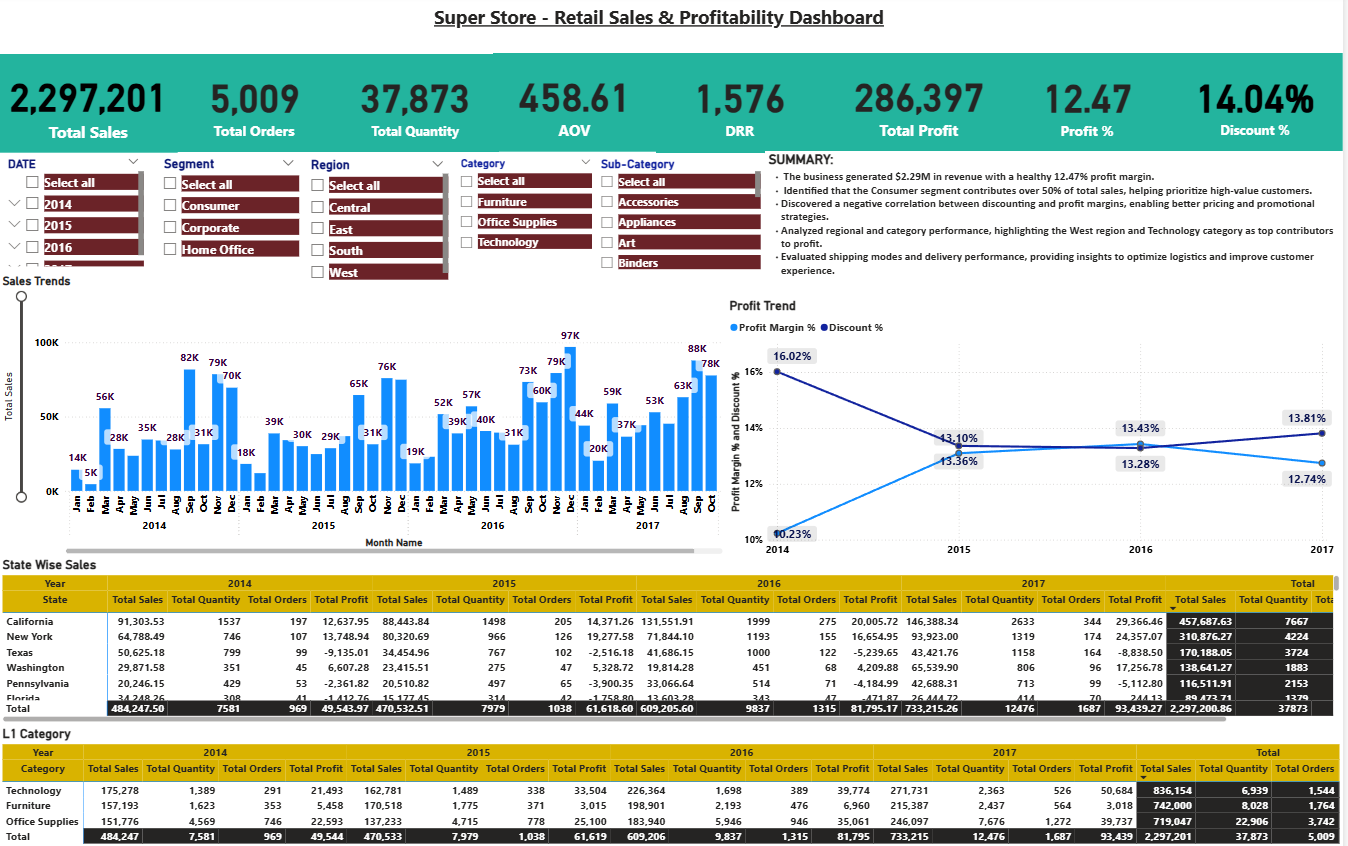

The dashboard page shown, as its layout file describes it:
{"tool":"powerbi","page":{"name":"Executive Performance Dashboard","canvas":[1920,1500],"ordinal":0},"visuals":[{"type":"card","fields":{"Values":["Orders.Total Sales"]},"box":[0,88.5,254.8,141.2],"z":0},{"type":"card","fields":{"Values":["Orders.Total Orders"]},"box":[253.6,88.5,220.1,140],"z":1000},{"type":"card","fields":{"Values":["Orders.Total Profit"]},"box":[1177.1,87.3,273.9,141.2],"z":2000},{"type":"card","fields":{"Values":["Orders.Total Quantity"]},"box":[473.7,88.5,240.4,140],"z":3000},{"type":"card","fields":{"Values":["Orders.AOV"]},"box":[714.2,89.7,224.9,141.2],"z":4000},{"type":"card","fields":{"Values":["Orders.Profit %"]},"box":[1451.1,87.3,217.7,141.2],"z":5000},{"type":"slicer","fields":{"Values":["Orders.Year Hierarchy.Year","Orders.Year Hierarchy.Month Name"]},"box":[0,229.7,211.7,167.5],"z":6000},{"type":"card","fields":{"Values":["Orders.DRR"]},"box":[939.1,89.7,238.1,140],"z":7000},{"type":"lineStackedColumnComboChart","title":"Sales Trends","fields":{"Y":["Orders.Total Sales"],"Category":["Orders.Year Hierarchy.Year","Orders.Year Hierarchy.Month Name"]},"box":[0,400.7,1038.4,405.5],"z":8000},{"type":"slicer","fields":{"Values":["Orders.Segment"]},"box":[222.5,229.7,210.5,187.8],"z":9000},{"type":"slicer","fields":{"Values":["Orders.Region"]},"box":[433,230.9,214.1,186.6],"z":10000},{"type":"lineChart","title":"Profit Trend","fields":{"Category":["Orders.Year Hierarchy.Year","Orders.Year Hierarchy.Month Name"],"Y":["Orders.Profit Margin %","Orders.Discount %"]},"box":[1038.4,397.2,873.3,405.5],"z":11000},{"type":"pivotTable","title":"L1 Category ","fields":{"Values":["Orders.Total Sales","Orders.Total Quantity","Orders.Total Orders","Orders.Total Profit"],"Columns":["Orders.Year Hierarchy.Year","Orders.Year Hierarchy.Month Number"],"Rows":["Orders.Category"]},"box":[0,802.7,1911.6,229.7],"z":12000},{"type":"pivotTable","title":"L2 Sub-Category","fields":{"Rows":["Orders.Sub-Category"],"Columns":["Orders.Year Hierarchy.Year","Orders.Year Hierarchy.Month Number"],"Values":["Orders.Total Sales","Orders.Total Quantity","Orders.Total Orders","Orders.Total Profit"]},"box":[0,1032.4,1920,250],"z":13000},{"type":"pivotTable","title":"Sate Wise  Sales","fields":{"Columns":["Orders.Year Hierarchy.Year","Orders.Year Hierarchy.Month Number"],"Values":["Orders.Total Sales","Orders.Total Quantity","Orders.Total Orders","Orders.Total Profit"],"Rows":["Orders.State"]},"box":[0,1258.5,1920,241.6],"z":14000},{"type":"card","fields":{"Values":["Orders.Discount %"]},"box":[1668.8,87.3,251.2,141.2],"z":15000},{"type":"textbox","title":"SUMMARY:","box":[1093.4,230.9,826.6,169.9],"z":16000},{"type":"slicer","fields":{"Values":["Orders.Category"]},"box":[647.2,229.7,210.5,187.8],"z":17000},{"type":"slicer","fields":{"Values":["Orders.Sub-Category"]},"box":[847,229.7,246.4,171.1],"z":18000},{"type":"textbox","box":[299.1,12,1288.4,51.4],"z":19000}]}

Visuals, with their boxes on the page's 1920x1500 design canvas (x1, y1, x2, y2). These are canvas units, not pixel positions in the 1348x846 screenshot, which may show the page scaled, cropped or inside an application window:
card - Orders.Total Sales: detection(0, 88, 255, 230)
card - Orders.Total Orders: detection(254, 88, 474, 228)
card - Orders.Total Profit: detection(1177, 87, 1451, 228)
card - Orders.Total Quantity: detection(474, 88, 714, 228)
card - Orders.AOV: detection(714, 90, 939, 231)
card - Orders.Profit %: detection(1451, 87, 1669, 228)
slicer - Orders.Year Hierarchy.Year x Orders.Year Hierarchy.Month Name: detection(0, 230, 212, 397)
card - Orders.DRR: detection(939, 90, 1177, 230)
"Sales Trends" lineStackedColumnComboChart: detection(0, 401, 1038, 806)
slicer - Orders.Segment: detection(222, 230, 433, 418)
slicer - Orders.Region: detection(433, 231, 647, 418)
"Profit Trend" lineChart: detection(1038, 397, 1912, 803)
"L1 Category " pivotTable: detection(0, 803, 1912, 1032)
"L2 Sub-Category" pivotTable: detection(0, 1032, 1920, 1282)
"Sate Wise  Sales" pivotTable: detection(0, 1258, 1920, 1500)
card - Orders.Discount %: detection(1669, 87, 1920, 228)
"SUMMARY:" textbox: detection(1093, 231, 1920, 401)
slicer - Orders.Category: detection(647, 230, 858, 418)
slicer - Orders.Sub-Category: detection(847, 230, 1093, 401)
textbox: detection(299, 12, 1588, 63)
